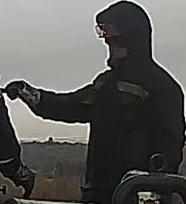gloves: (2, 77, 44, 110), (10, 158, 36, 200)
helmet: (92, 16, 124, 42)
vest: (81, 62, 185, 203)
